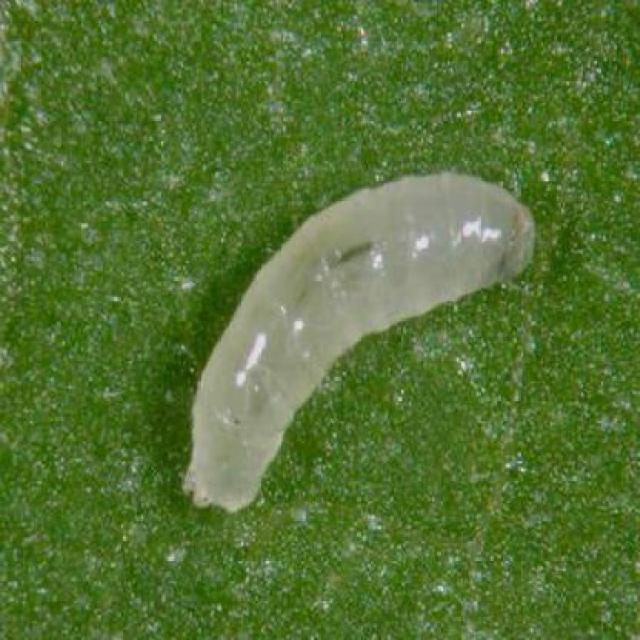whorl-maggot: (173, 162, 538, 518)
